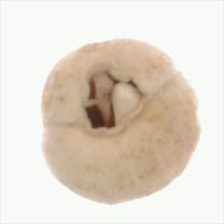L3: (81, 60, 144, 134)
L4: (39, 38, 201, 205)
